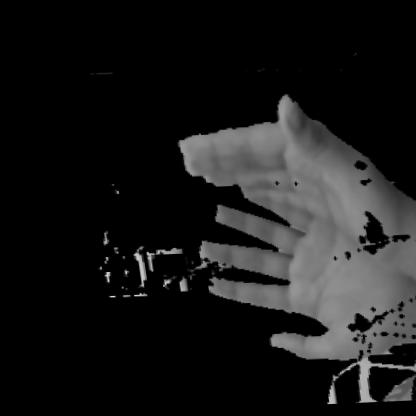dua: (138, 79, 415, 394)
